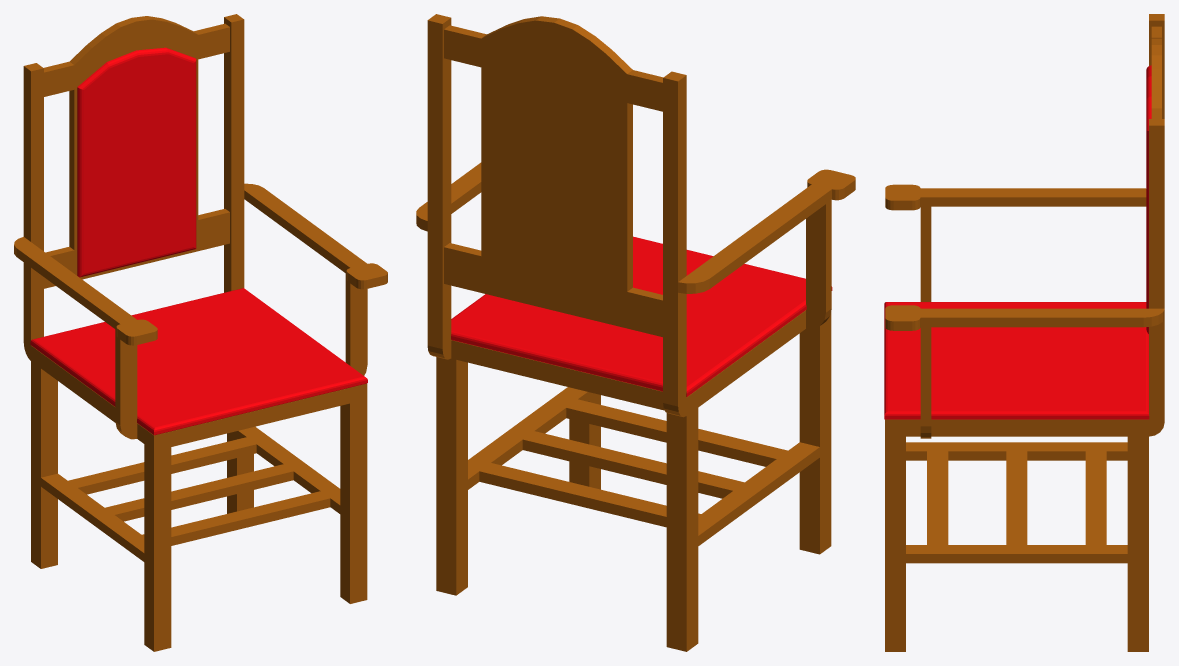
Rendered from CadeiraCapela.fbx.
The picture shows the model from 3 angles, left to right: view 1: azimuth 30°, elevation 25°; view 2: azimuth 150°, elevation 25°; view 3: azimuth 270°, elevation 25°; orthographic projection. The views are drawn at different scales.
Parts seen in each view (by area): view 1: Cube, Cube.008, Cube.001, Cube.004, Cube.005, Cube.003, Cube.006, Cube.002, Cube.007; view 2: Cube.005, Cube, Cube.001, Cube.004, Cube.003, Cube.002, Cube.006, Cube.007; view 3: Cube, Cube.006, Cube.001, Cube.002, Cube.003, Cube.004, Cube.007, Cube.005, Cube.008.
Part boxes in pixels (x1=…): Cube: x1=30, y1=288, x2=367, y2=451; Cube.008: x1=77, y1=47, x2=196, y2=277; Cube.001: x1=31, y1=361, x2=367, y2=651; Cube.004: x1=23, y1=14, x2=244, y2=360; Cube.005: x1=44, y1=16, x2=229, y2=288; Cube.003: x1=68, y1=437, x2=330, y2=545; Cube.006: x1=14, y1=183, x2=387, y2=345; Cube.002: x1=41, y1=426, x2=340, y2=561; Cube.007: x1=115, y1=273, x2=367, y2=439; Cube.005: x1=444, y1=16, x2=663, y2=337; Cube: x1=451, y1=236, x2=832, y2=415; Cube.001: x1=436, y1=312, x2=831, y2=651; Cube.004: x1=427, y1=14, x2=686, y2=417; Cube.003: x1=479, y1=399, x2=787, y2=527; Cube.002: x1=468, y1=387, x2=819, y2=545; Cube.006: x1=416, y1=162, x2=855, y2=293; Cube.007: x1=806, y1=200, x2=831, y2=328; Cube: x1=884, y1=302, x2=1149, y2=436; Cube.006: x1=885, y1=184, x2=1164, y2=330; Cube.001: x1=885, y1=436, x2=1148, y2=651; Cube.002: x1=906, y1=442, x2=1127, y2=563; Cube.003: x1=927, y1=451, x2=1106, y2=544; Cube.004: x1=1149, y1=14, x2=1164, y2=436; Cube.007: x1=920, y1=206, x2=931, y2=438; Cube.005: x1=1151, y1=26, x2=1161, y2=118; Cube.008: x1=1146, y1=65, x2=1151, y2=333.
Size of the model in its own units: 61.2 by 115 by 53.11.
